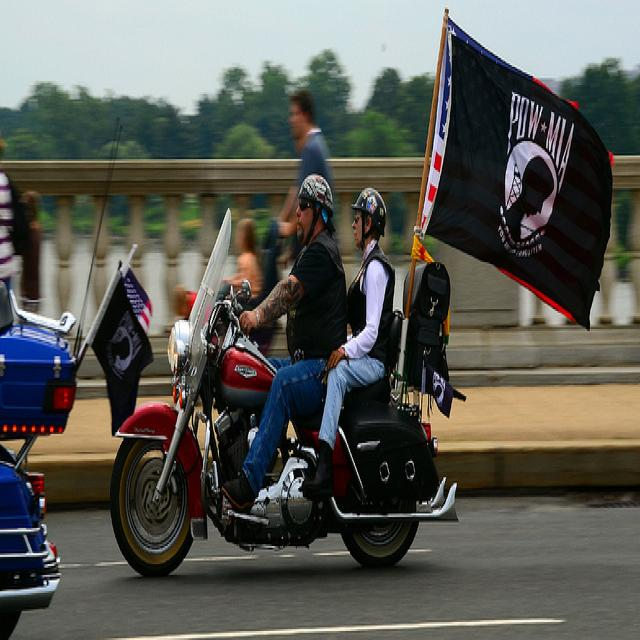motor: (113, 207, 462, 574), (0, 281, 77, 632)
